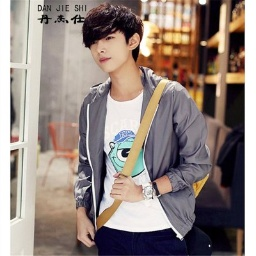face: (81, 3, 147, 73)
